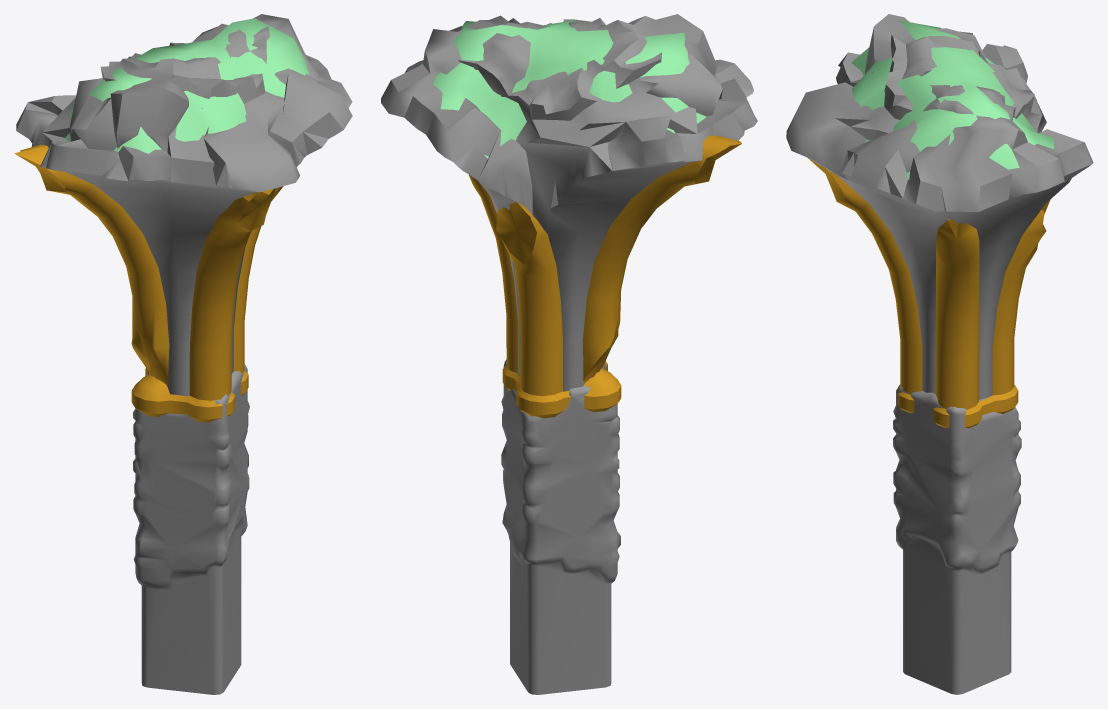
File: SM_Pillar_B.fbx
3 views of the same model, side by side, from view 1: azimuth 30°, elevation 25°; view 2: azimuth 150°, elevation 25°; view 3: azimuth 270°, elevation 25° (orthographic). The views are drawn at different scales.
Parts seen in each view (by area): view 1: SM_Pillar_B_LOD0; view 2: SM_Pillar_B_LOD0; view 3: SM_Pillar_B_LOD0.
Boxes of the visible parts, box(x1,y1,x2,y2) form: SM_Pillar_B_LOD0: box(14, 14, 352, 694); SM_Pillar_B_LOD0: box(381, 14, 757, 694); SM_Pillar_B_LOD0: box(786, 14, 1093, 694).
Size of what is drawn, in the model's own units: 272 by 507 by 230.
